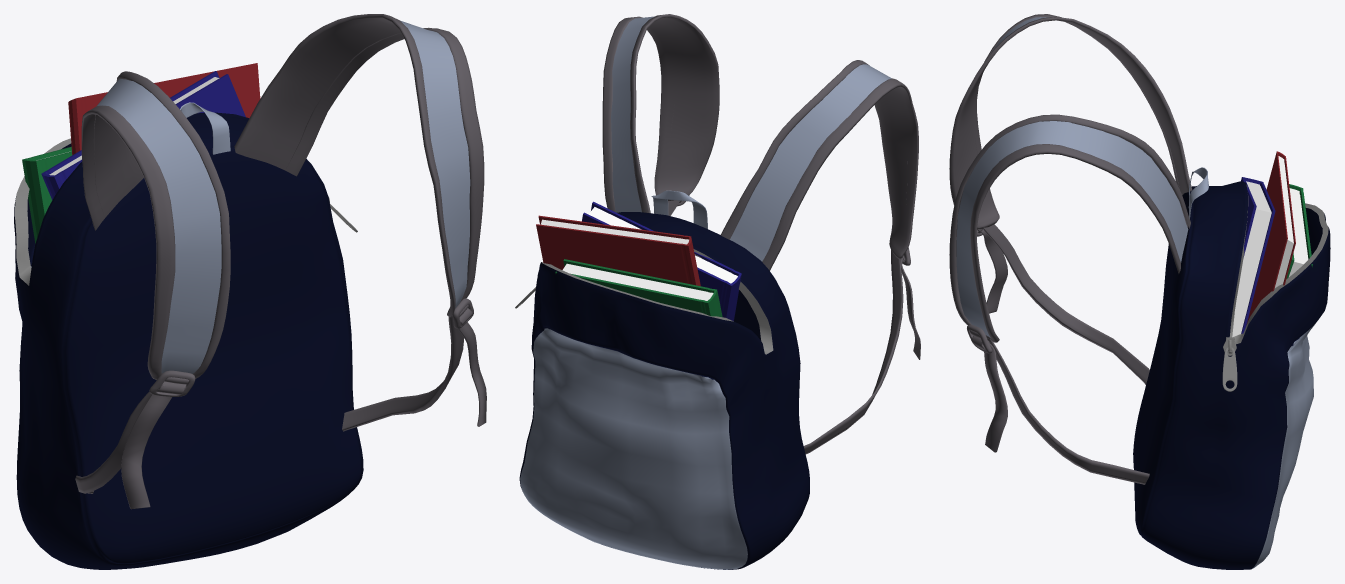
Rendered from bag1.fbx.
3 views of the same model, side by side, from view 1: azimuth 30°, elevation 25°; view 2: azimuth 150°, elevation 25°; view 3: azimuth 270°, elevation 25° (orthographic). The views are drawn at different scales.
Visible parts, largest first — view 1: Backpackfixed.001, Backpackfixed, Architexture.001, Architexture.003, Architexture.002, Backpackfixed.012, Backpackfixed.013; view 2: Backpackfixed.005, Backpackfixed, Backpackfixed.001, Architexture.001, Architexture.002, Architexture.003, Architexture.005, Backpackfixed.012, Backpackfixed.013, Architexture.006, Architexture.004; view 3: Backpackfixed.001, Backpackfixed, Backpackfixed.005, Architexture.001, Architexture.006, Backpackfixed.012, Architexture.003, Architexture.005, Architexture.004.
Part boxes in pixels (x1,y1,x2,y2): Backpackfixed.001: (14,112,363,569); Backpackfixed: (75,14,486,509); Architexture.001: (68,63,260,154); Architexture.003: (41,71,245,199); Architexture.002: (22,146,72,243); Backpackfixed.012: (15,138,357,285); Backpackfixed.013: (180,102,230,154); Backpackfixed.005: (520,328,747,569); Backpackfixed: (602,14,920,454); Backpackfixed.001: (519,212,809,569); Architexture.001: (536,215,700,286); Architexture.002: (555,259,722,317); Architexture.003: (582,201,741,321); Architexture.005: (562,263,713,300); Backpackfixed.012: (515,249,773,354); Backpackfixed.013: (651,190,707,228); Architexture.006: (588,207,737,283); Architexture.004: (540,219,688,244); Backpackfixed.001: (1133,181,1330,569); Backpackfixed: (949,14,1192,484); Backpackfixed.005: (1253,323,1315,568); Architexture.001: (1246,151,1295,324); Architexture.006: (1232,181,1271,337); Backpackfixed.012: (1222,185,1328,391); Architexture.003: (1241,177,1275,333); Architexture.005: (1289,188,1308,276); Architexture.004: (1275,156,1293,287).
Bounding box in the file's own units: 606 × 890 × 657.
